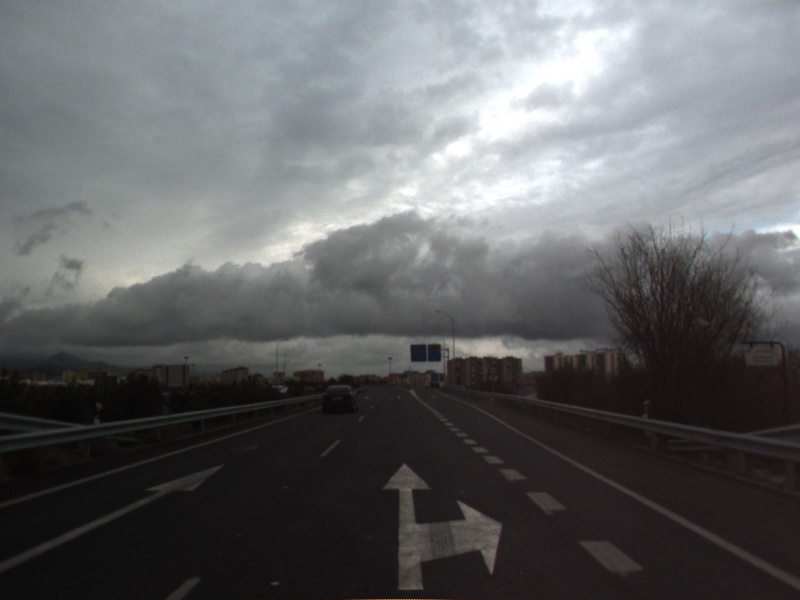STRAIGHT: (1, 462, 227, 572)
STRAIGHT_RIGHT: (379, 459, 505, 591)
